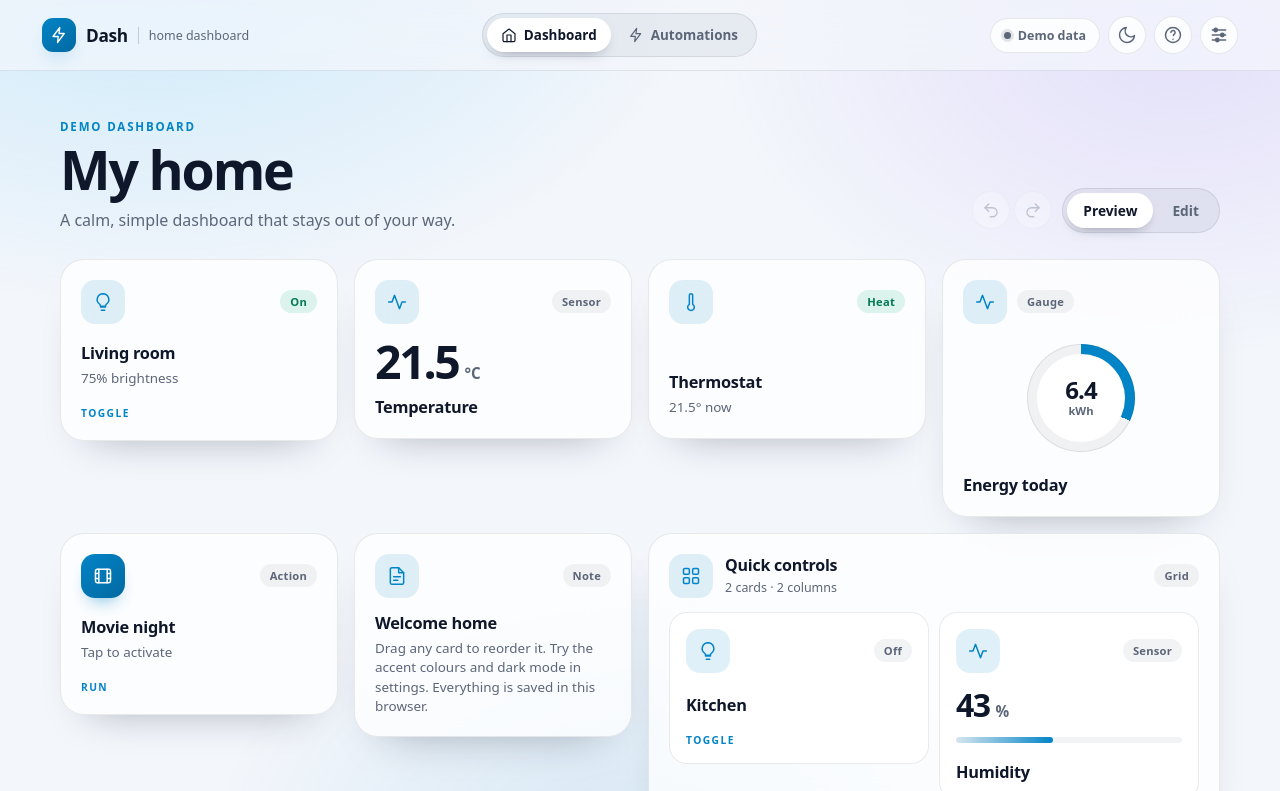
Test case: Dash dashboard builder › opens help with guided tasks and shortcuts
Click the button named "Open help" at (1173, 35), box [1154, 16, 1192, 54]
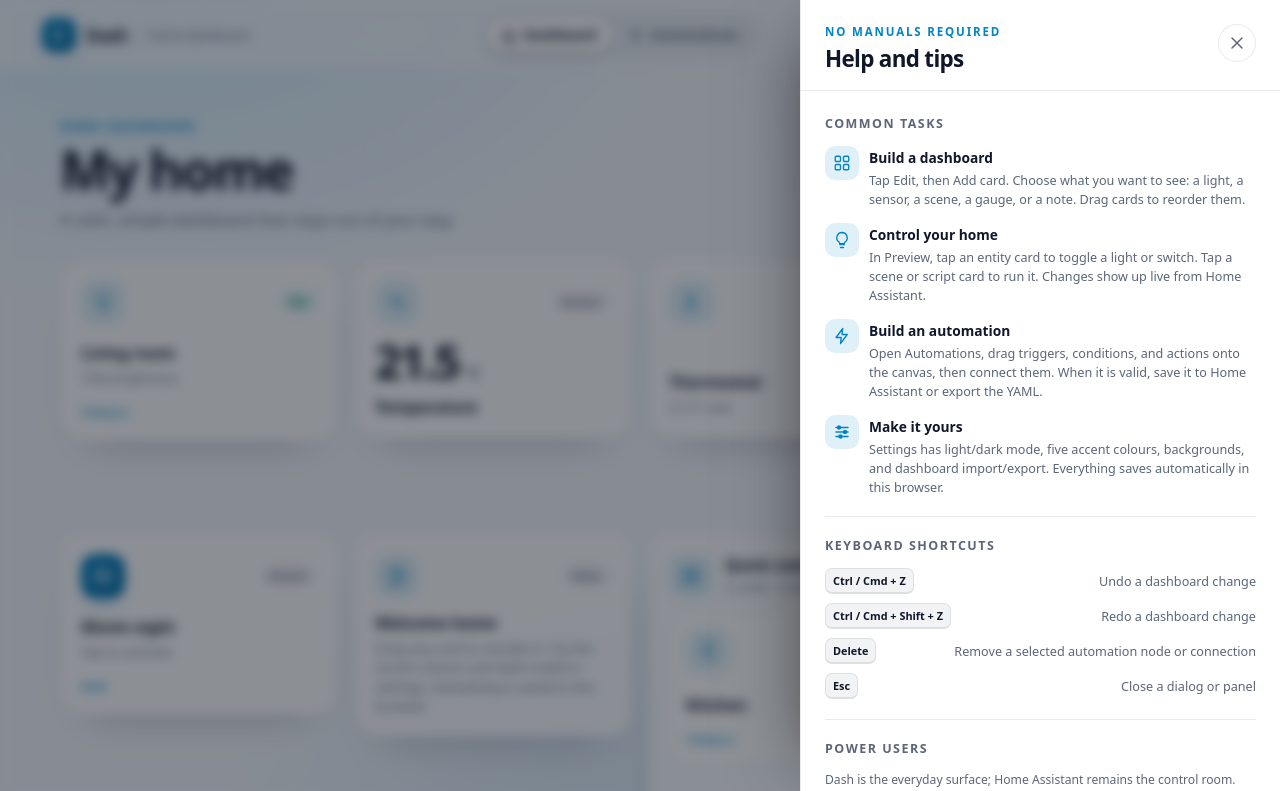
expect the text "Build a dashboard" is shown: met, box [869, 148, 993, 167]
expect the heading "Keyboard shortcuts" is shown: met, box [825, 538, 995, 554]
Click the button named "Close help" at (1237, 43), box [1218, 24, 1256, 62]
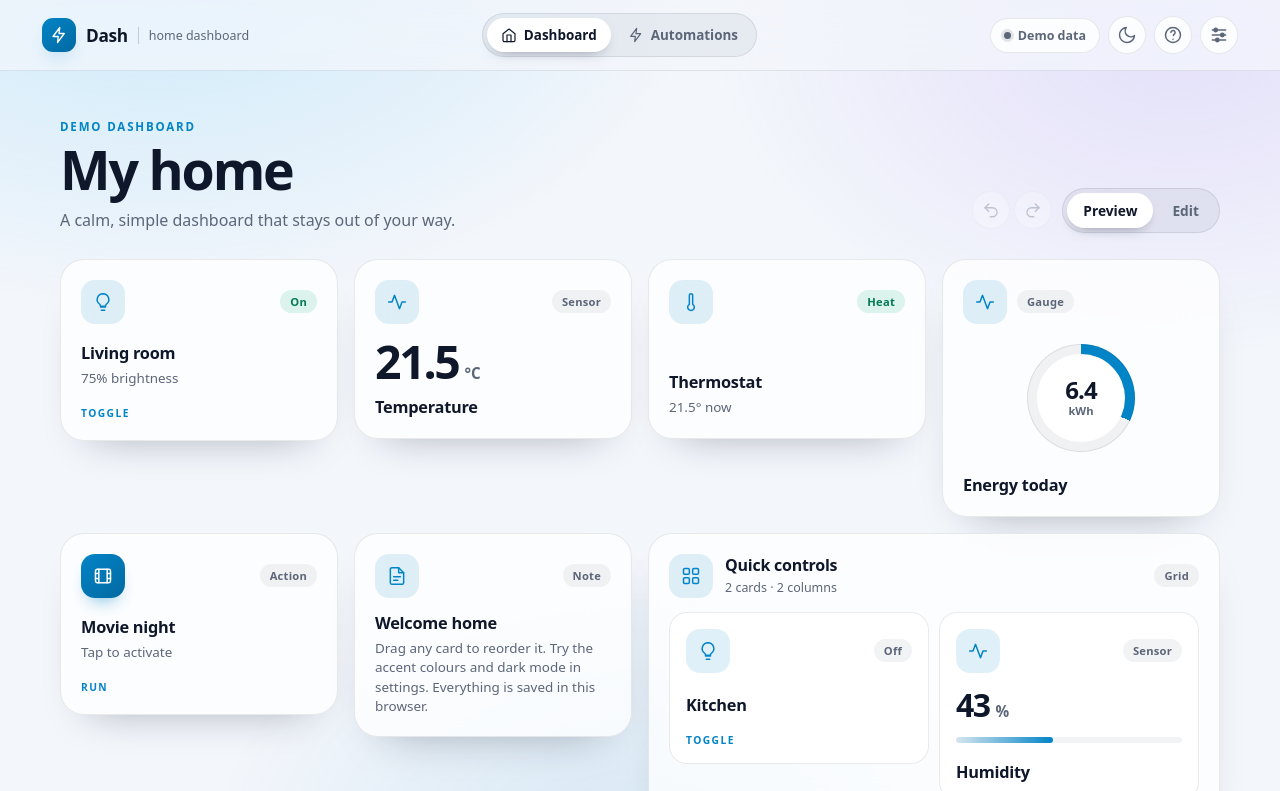
expect the heading "Help and tips" is gone: met
